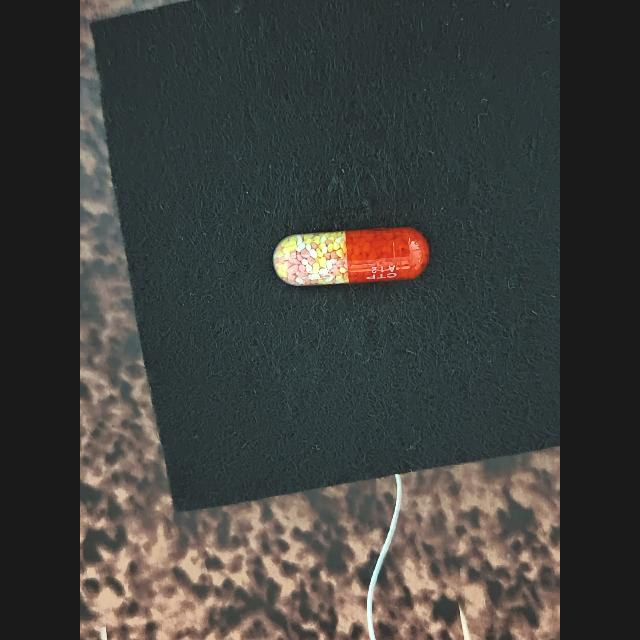Intact Capsule: (273, 227, 429, 286)
